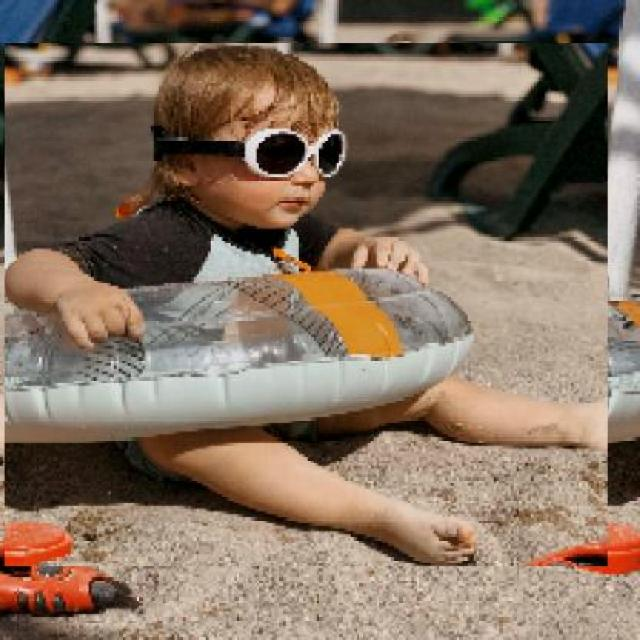child: (3, 43, 608, 568)
